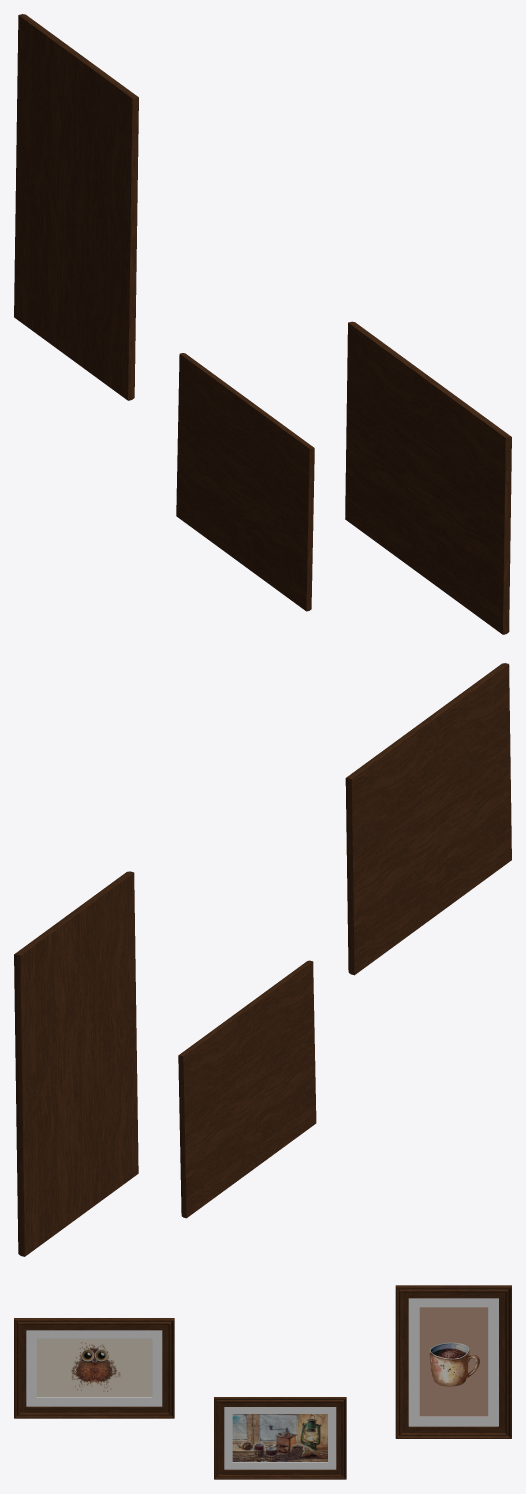
File: cafe-wall-pictures.glb
3 renders of one model, top to bottom at view 1: azimuth 30°, elevation 25°; view 2: azimuth 150°, elevation 25°; view 3: azimuth 270°, elevation 25°, orthographic. The views are drawn at different scales.
Parts seen in each view (by area): view 1: wall_picture_2, wall_picture_3, wall_picture_1; view 2: wall_picture_2, wall_picture_3, wall_picture_1; view 3: wall_picture_2, wall_picture_3, wall_picture_1.
Part boxes in pixels (x1,y1,x2,y2): wall_picture_2: [14, 14, 138, 400]; wall_picture_3: [345, 321, 511, 634]; wall_picture_1: [176, 353, 314, 611]; wall_picture_2: [14, 871, 138, 1256]; wall_picture_3: [345, 663, 511, 975]; wall_picture_1: [178, 960, 316, 1218]; wall_picture_2: [395, 1285, 511, 1438]; wall_picture_3: [14, 1318, 174, 1418]; wall_picture_1: [214, 1397, 346, 1479].
Bounding box in the file's own units: 0.0259 × 0.7888 × 1.83.
3 materials, 3 textured.
